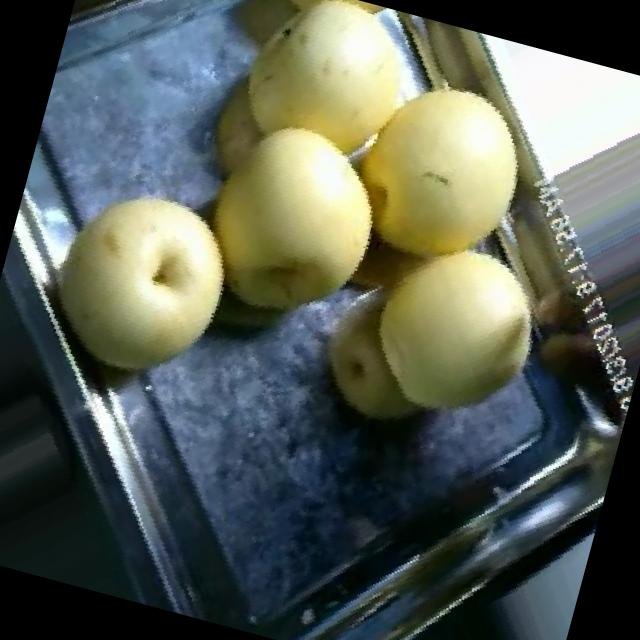Fruit: (125, 0, 452, 361), (0, 131, 276, 430), (328, 189, 596, 471), (305, 37, 571, 316)
